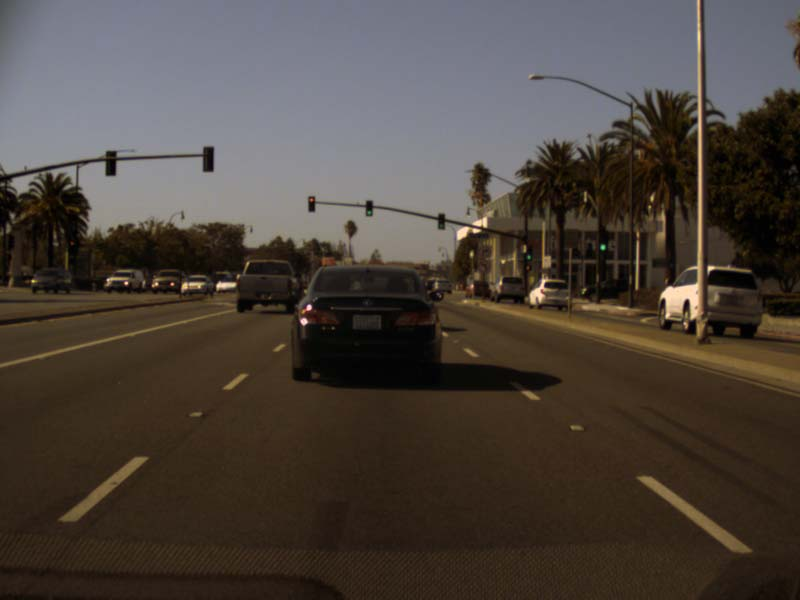Green: (598, 230, 607, 252), (365, 199, 372, 216), (438, 213, 445, 229), (526, 245, 531, 260)
Red: (68, 237, 76, 255), (307, 195, 315, 211)
Yellow: (524, 264, 532, 270)
